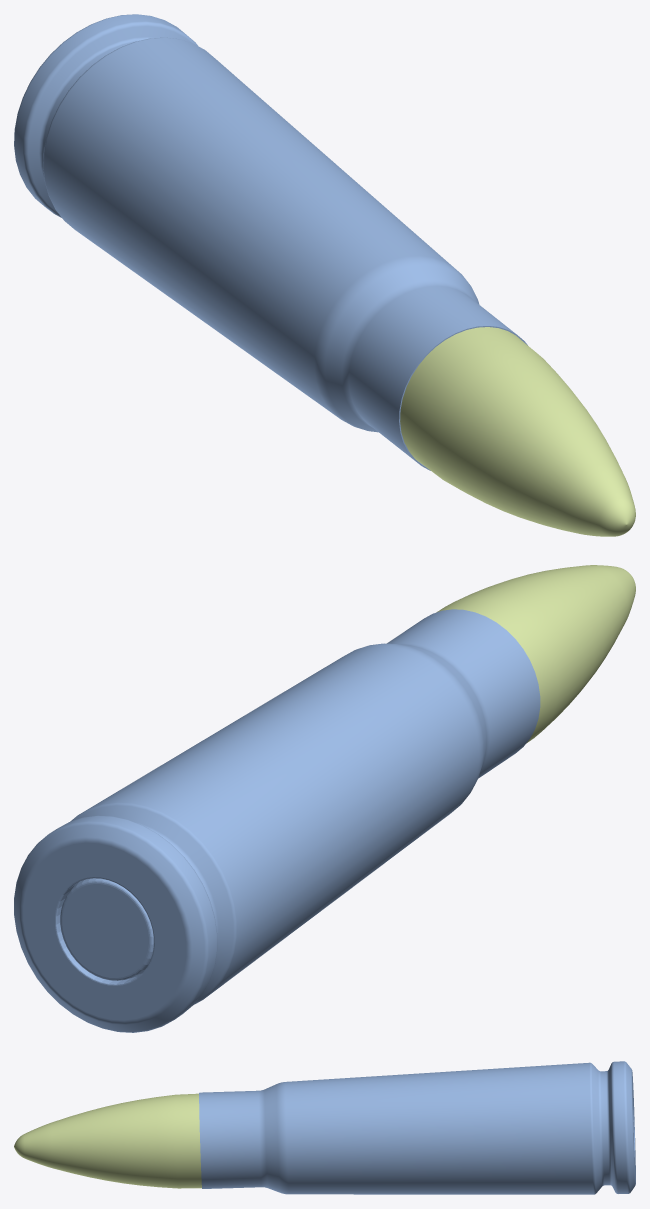
Rendered from bulletfrominvader.obj.
3 renders of one model, top to bottom at view 1: azimuth 30°, elevation 25°; view 2: azimuth 150°, elevation 25°; view 3: azimuth 270°, elevation 25°, orthographic. The views are drawn at different scales.
Parts seen in each view (by area): view 1: Line062 Mesh, Line061 Mesh; view 2: Line062 Mesh, Line061 Mesh; view 3: Line062 Mesh, Line061 Mesh.
Part boxes in pixels (x1=…): Line062 Mesh: x1=14, y1=14, x2=527, y2=470; Line061 Mesh: x1=400, y1=327, x2=635, y2=536; Line062 Mesh: x1=14, y1=609, x2=540, y2=1032; Line061 Mesh: x1=436, y1=565, x2=635, y2=743; Line062 Mesh: x1=199, y1=1061, x2=635, y2=1194; Line061 Mesh: x1=14, y1=1093, x2=201, y2=1188.
Size of the model in its own units: 4.65 by 4.7 by 21.79.
